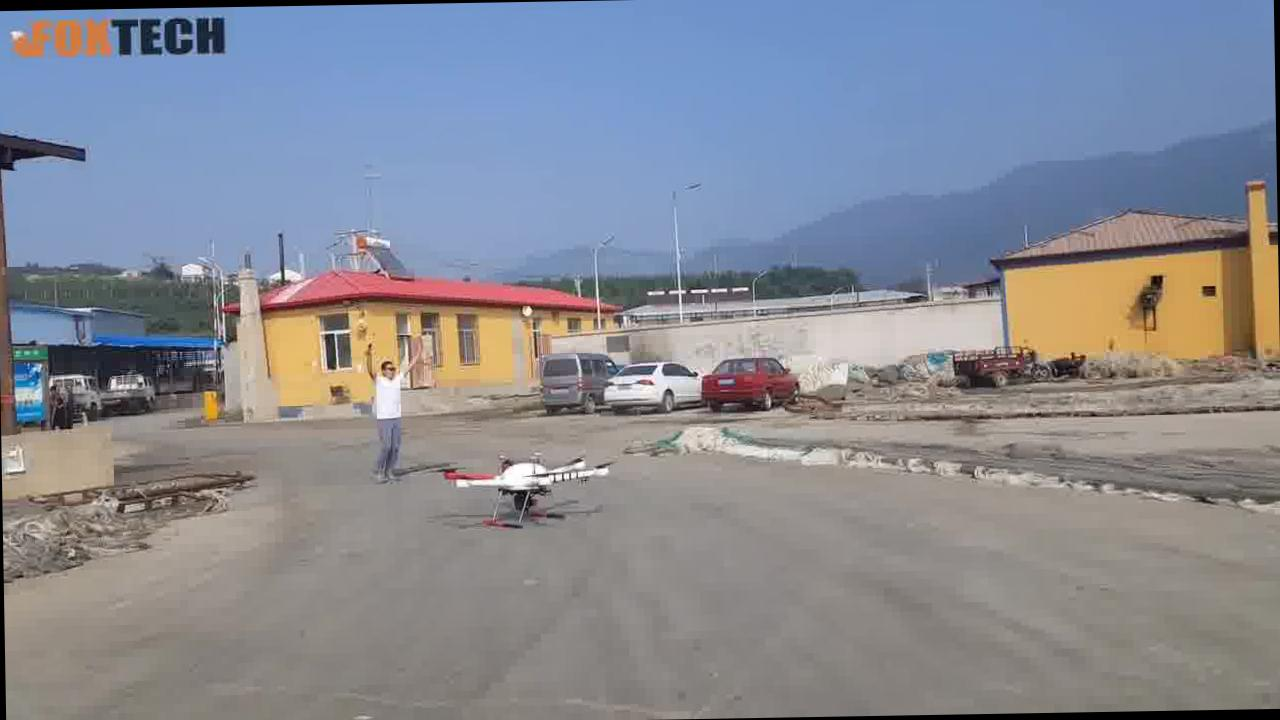drone: (439, 452, 616, 530)
